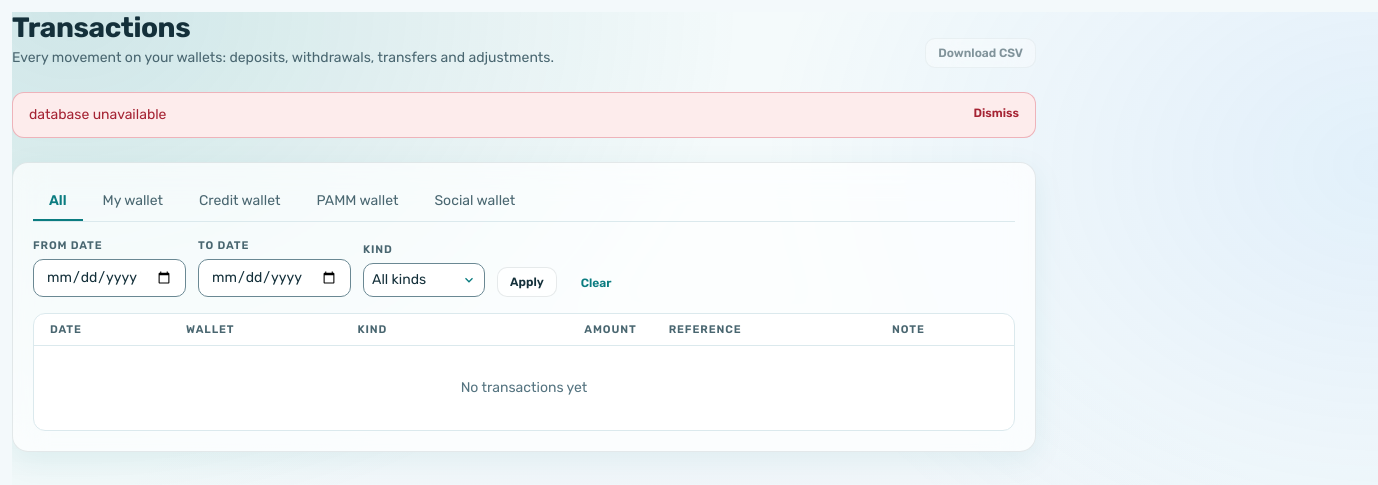
dismissing a load error shows the empty state, not an endless skeleton
Step 1. Click the button "Dismiss" → (996, 113), box [974,105,1019,121]
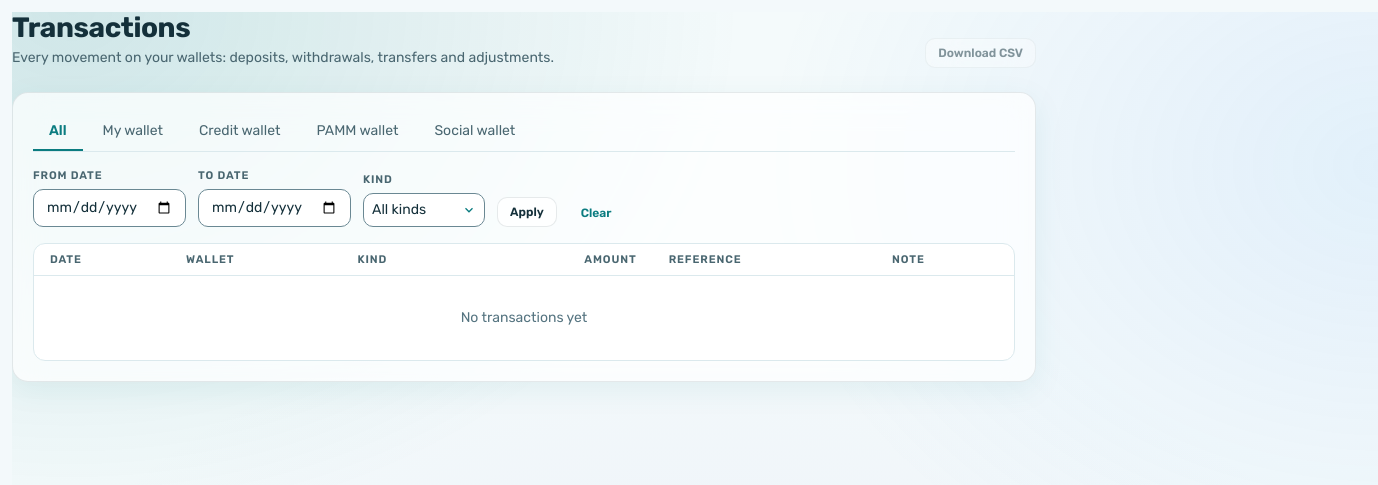
Check: the text "No transactions yet" is shown, box [34,276,1014,360]
Check: the message "database unavailable Dismiss" is gone
